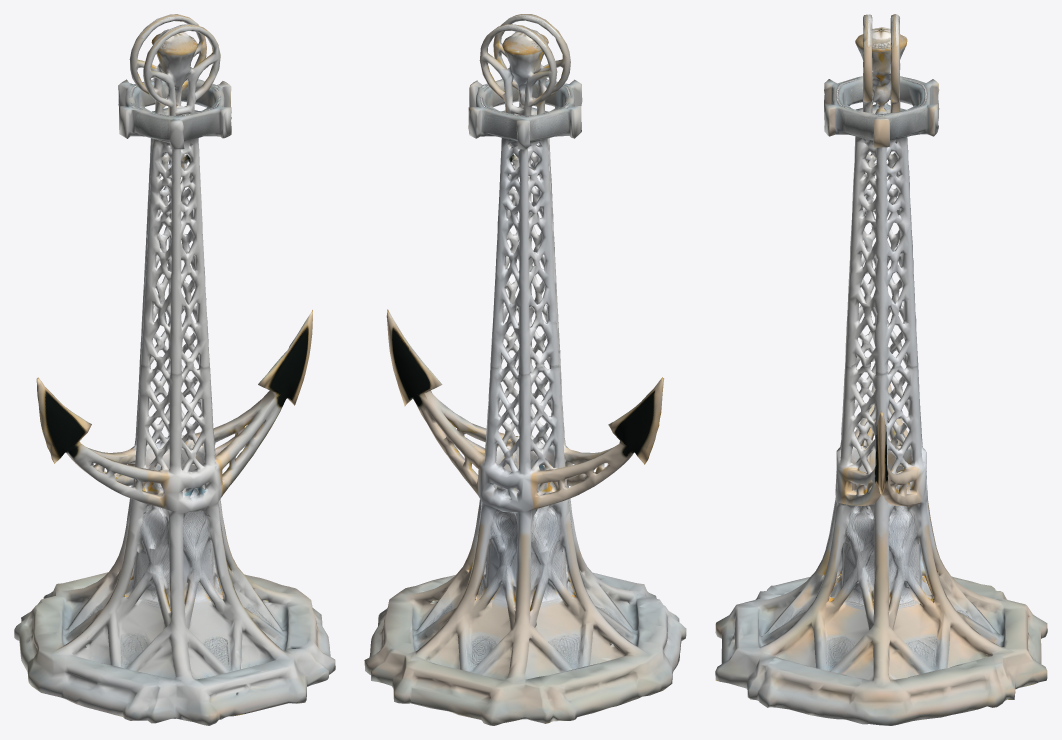
The model's file is subjects-lattice-anchor.glb.
The picture shows the model from 3 angles, left to right: view 1: azimuth 30°, elevation 25°; view 2: azimuth 150°, elevation 25°; view 3: azimuth 270°, elevation 25°; orthographic projection.
Size of the model in its own units: 0.8898 by 1.91 by 0.9011.
Materials: 1 (1 with a texture image).
